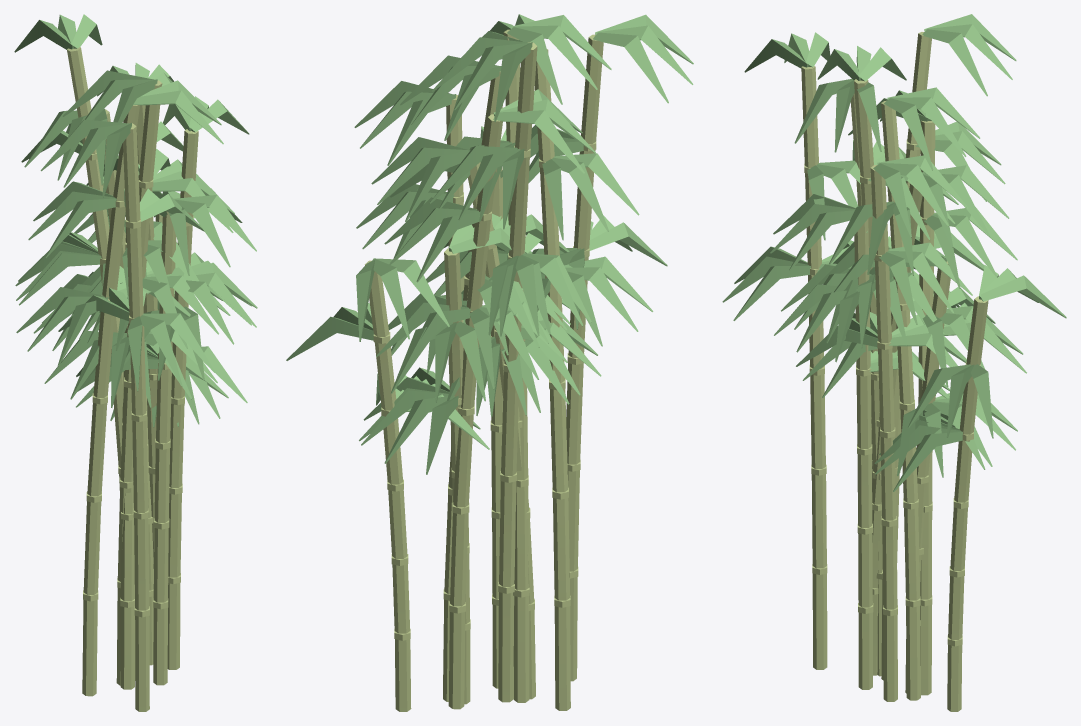
File: SonMon_prop_bamboo.fbx
3 renders of one model, left to right at view 1: azimuth 30°, elevation 25°; view 2: azimuth 150°, elevation 25°; view 3: azimuth 270°, elevation 25°, orthographic. The views are drawn at different scales.
Visible parts, largest first — view 1: prop_bamboo; view 2: prop_bamboo; view 3: prop_bamboo.
Boxes of the visible parts, left/top/right/bottom form: prop_bamboo: left=14, top=14, right=257, bottom=711; prop_bamboo: left=286, top=14, right=693, bottom=711; prop_bamboo: left=722, top=14, right=1066, bottom=711.
Size of the model in its own units: 1.53 by 3.45 by 1.68.
